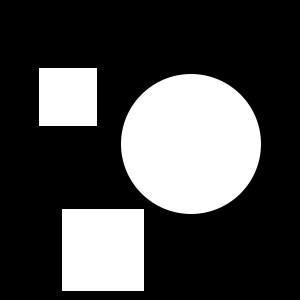circle: (62, 209, 144, 291), (39, 68, 97, 126)
rectangle: (121, 74, 261, 214)
